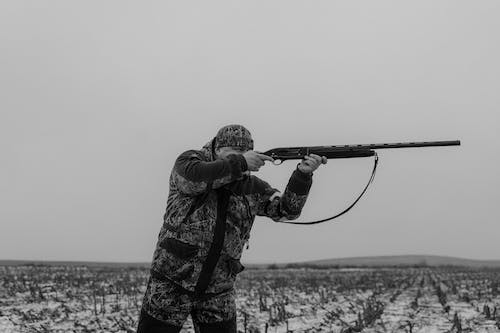gun: (258, 139, 461, 166)
